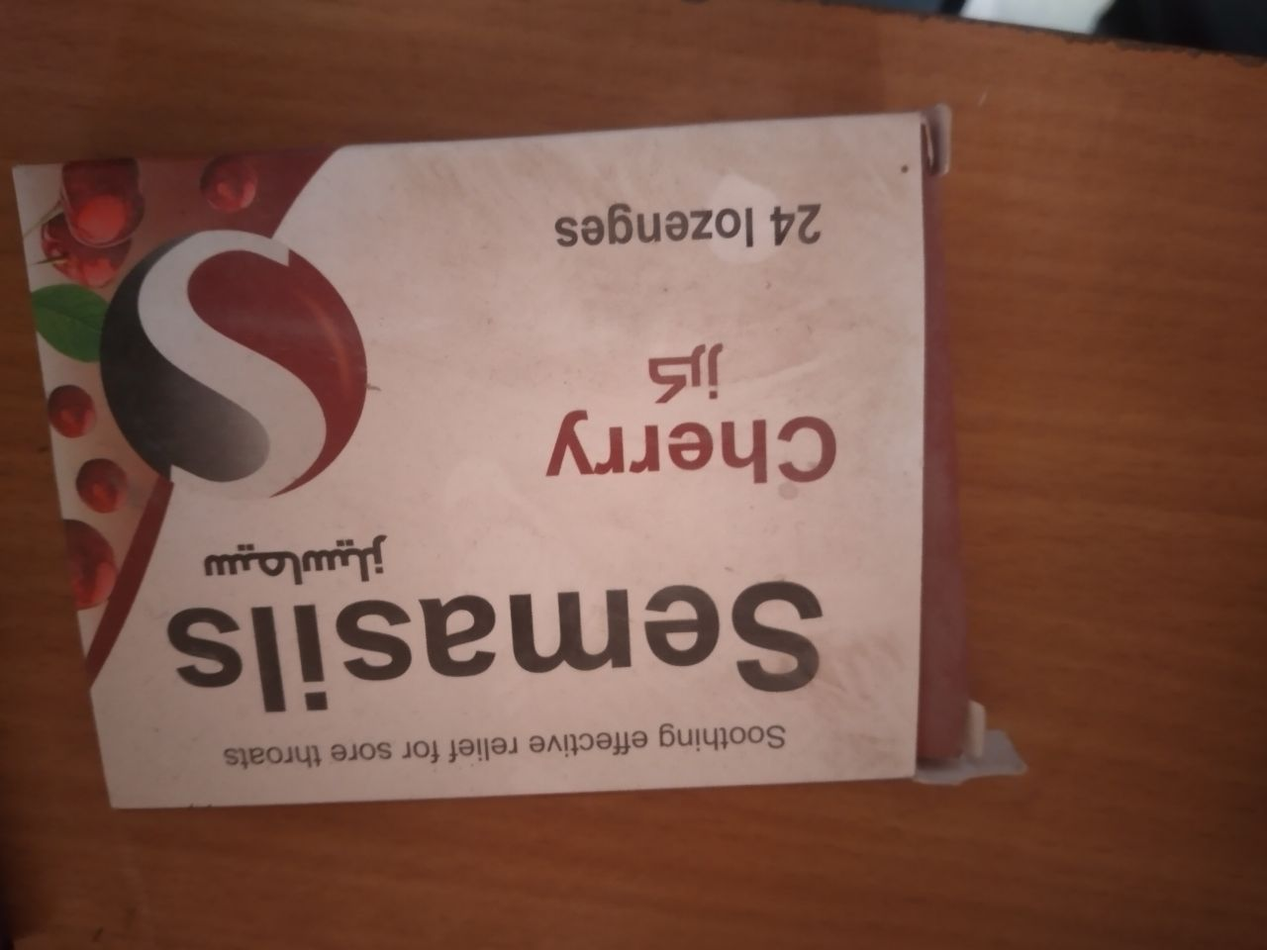Medicine: (0, 111, 950, 789)
